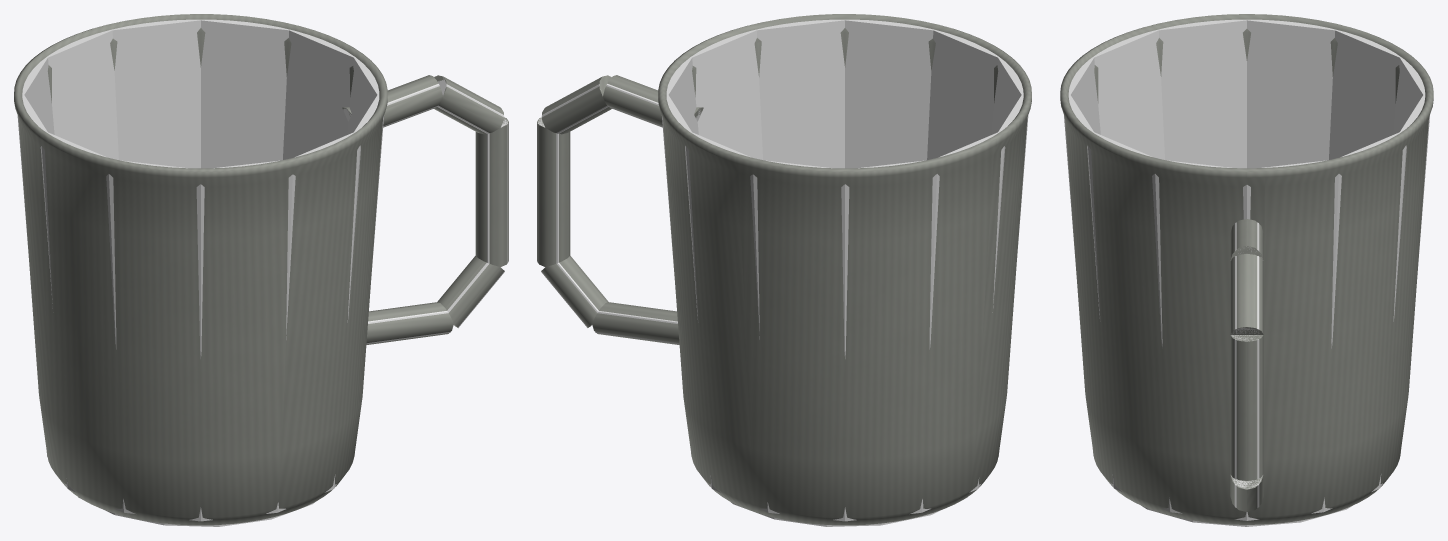
The model's file is RiceMeasuringCup.fbx.
3 renders of one model, left to right at view 1: azimuth 30°, elevation 25°; view 2: azimuth 150°, elevation 25°; view 3: azimuth 270°, elevation 25°, orthographic.
Visible parts, largest first — view 1: RiceMeasuringCup, COL_RiceMeasuringCup_Wall_02_03, COL_RiceMeasuringCup_Wall_02_02, COL_RiceMeasuringCup_Wall_02_04, COL_RiceMeasuringCup_Wall_02_01, COL_RiceMeasuringCup_Wall_02_05, COL_RiceMeasuringCup_Wall_02_12, COL_RiceMeasuringCup_Wall_02_08, COL_RiceMeasuringCup_Wall_02_09, COL_RiceMeasuringCup_Wall_02_10, COL_RiceMeasuringCup_Wall_02_07, COL_RiceMeasuringCup_Handle_03 (+2 smaller); view 2: RiceMeasuringCup, COL_RiceMeasuringCup_Wall_02_10, COL_RiceMeasuringCup_Wall_02_11, COL_RiceMeasuringCup_Wall_02_09, COL_RiceMeasuringCup_Wall_02_12, COL_RiceMeasuringCup_Wall_02_08, COL_RiceMeasuringCup_Wall_02_01, COL_RiceMeasuringCup_Wall_02_05, COL_RiceMeasuringCup_Wall_02_04, COL_RiceMeasuringCup_Wall_02_03, COL_RiceMeasuringCup_Wall_02_06, COL_RiceMeasuringCup_Handle_03 (+2 smaller); view 3: RiceMeasuringCup, COL_RiceMeasuringCup_Wall_02_06, COL_RiceMeasuringCup_Wall_02_07, COL_RiceMeasuringCup_Wall_02_05, COL_RiceMeasuringCup_Wall_02_08, COL_RiceMeasuringCup_Wall_02_04, COL_RiceMeasuringCup_Wall_02_09, COL_RiceMeasuringCup_Wall_02_02, COL_RiceMeasuringCup_Wall_02_11, COL_RiceMeasuringCup_Handle_03, COL_RiceMeasuringCup_Wall_02_01, COL_RiceMeasuringCup_Wall_02_12 (+3 smaller).
Part boxes in pixels (<box>): RiceMeasuringCup: <box>14,14,508,525</box>; COL_RiceMeasuringCup_Wall_02_03: <box>112,19,200,168</box>; COL_RiceMeasuringCup_Wall_02_02: <box>201,19,289,168</box>; COL_RiceMeasuringCup_Wall_02_04: <box>46,29,118,159</box>; COL_RiceMeasuringCup_Wall_02_01: <box>283,29,355,159</box>; COL_RiceMeasuringCup_Wall_02_05: <box>22,57,54,134</box>; COL_RiceMeasuringCup_Wall_02_12: <box>347,57,379,134</box>; COL_RiceMeasuringCup_Wall_02_08: <box>109,160,200,351</box>; COL_RiceMeasuringCup_Wall_02_09: <box>201,160,292,351</box>; COL_RiceMeasuringCup_Wall_02_10: <box>286,132,360,334</box>; COL_RiceMeasuringCup_Wall_02_07: <box>41,132,115,341</box>; COL_RiceMeasuringCup_Handle_03: <box>487,119,508,263</box>; RiceMeasuringCup: <box>537,14,1031,525</box>; COL_RiceMeasuringCup_Wall_02_10: <box>845,19,933,168</box>; COL_RiceMeasuringCup_Wall_02_11: <box>756,19,844,168</box>; COL_RiceMeasuringCup_Wall_02_09: <box>927,29,999,159</box>; COL_RiceMeasuringCup_Wall_02_12: <box>690,29,762,159</box>; COL_RiceMeasuringCup_Wall_02_08: <box>991,57,1023,134</box>; COL_RiceMeasuringCup_Wall_02_01: <box>666,57,698,134</box>; COL_RiceMeasuringCup_Wall_02_05: <box>845,160,936,351</box>; COL_RiceMeasuringCup_Wall_02_04: <box>753,160,844,351</box>; COL_RiceMeasuringCup_Wall_02_03: <box>685,132,759,334</box>; COL_RiceMeasuringCup_Wall_02_06: <box>930,132,1004,341</box>; COL_RiceMeasuringCup_Handle_03: <box>537,117,558,263</box>; RiceMeasuringCup: <box>1060,14,1433,524</box>; COL_RiceMeasuringCup_Wall_02_06: <box>1247,19,1335,168</box>; COL_RiceMeasuringCup_Wall_02_07: <box>1158,19,1246,168</box>; COL_RiceMeasuringCup_Wall_02_05: <box>1329,29,1400,159</box>; COL_RiceMeasuringCup_Wall_02_08: <box>1093,29,1164,159</box>; COL_RiceMeasuringCup_Wall_02_04: <box>1393,57,1425,134</box>; COL_RiceMeasuringCup_Wall_02_09: <box>1068,57,1100,134</box>; COL_RiceMeasuringCup_Wall_02_02: <box>1332,132,1405,341</box>; COL_RiceMeasuringCup_Wall_02_11: <box>1088,132,1161,341</box>; COL_RiceMeasuringCup_Handle_03: <box>1232,335,1260,478</box>; COL_RiceMeasuringCup_Wall_02_01: <box>1247,160,1338,341</box>; COL_RiceMeasuringCup_Wall_02_12: <box>1155,160,1246,341</box>.
Size of the model in its own units: 0.13 by 0.1 by 0.09.
Materials: 1 (1 with a texture image).
